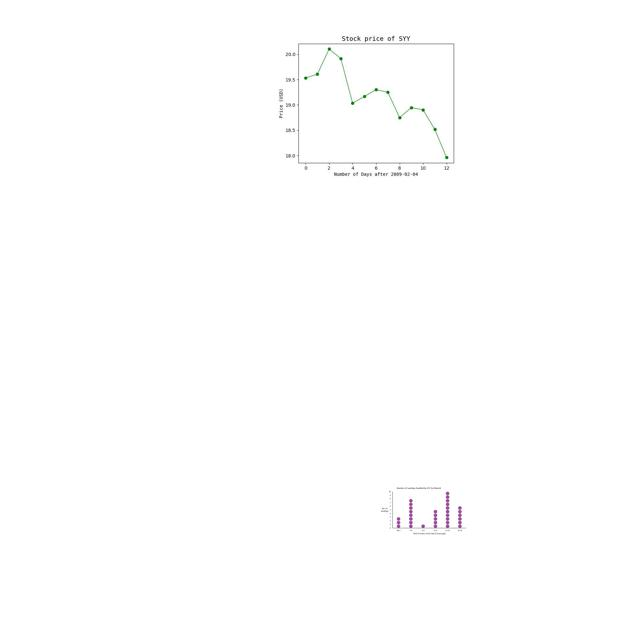Graph: (270, 25, 477, 180), (378, 485, 468, 537)
